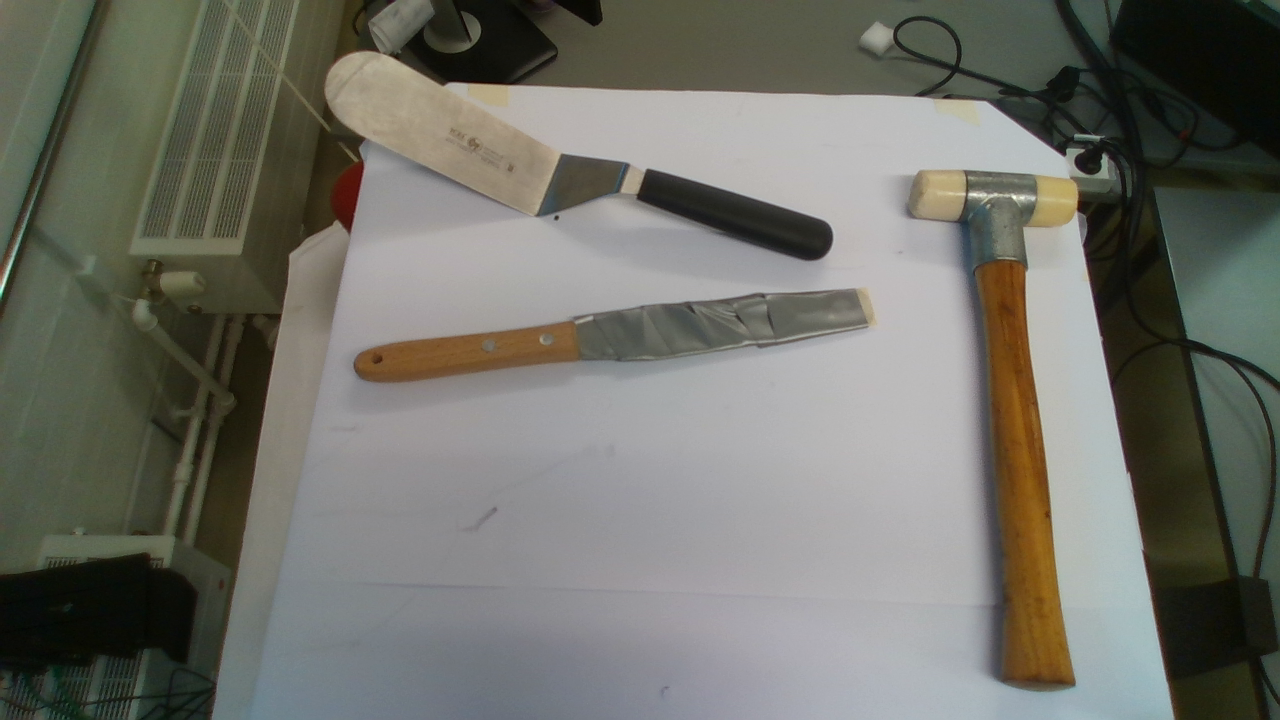hammer: (902, 167, 1076, 692)
knife: (325, 51, 837, 264), (348, 282, 879, 392)
